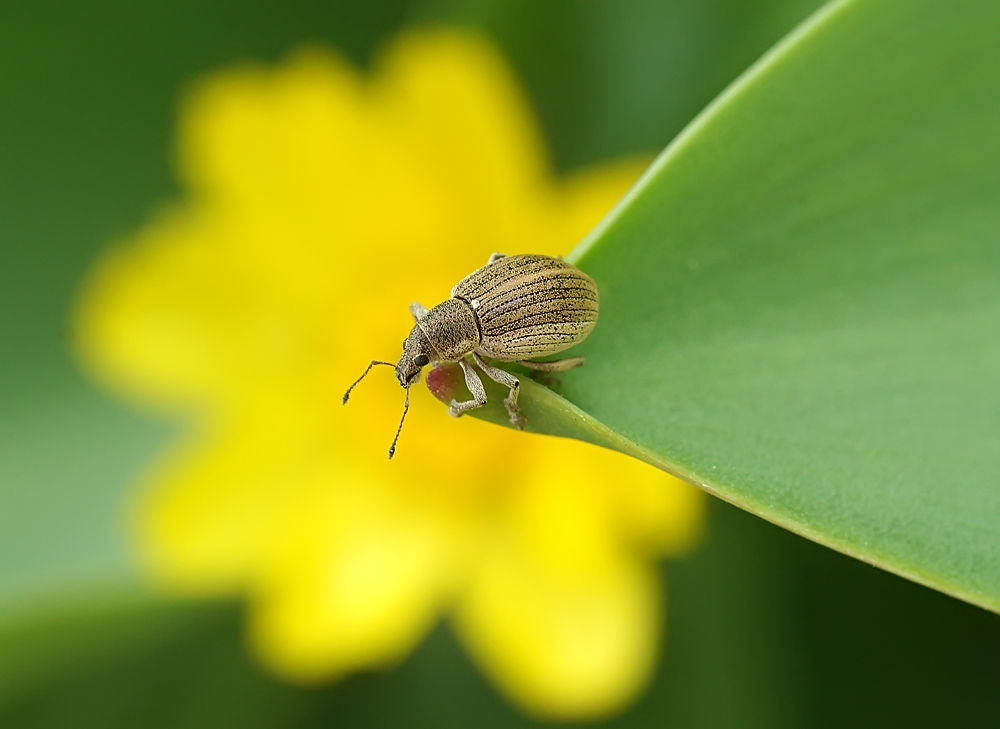dolgonosik: (338, 256, 604, 456)
